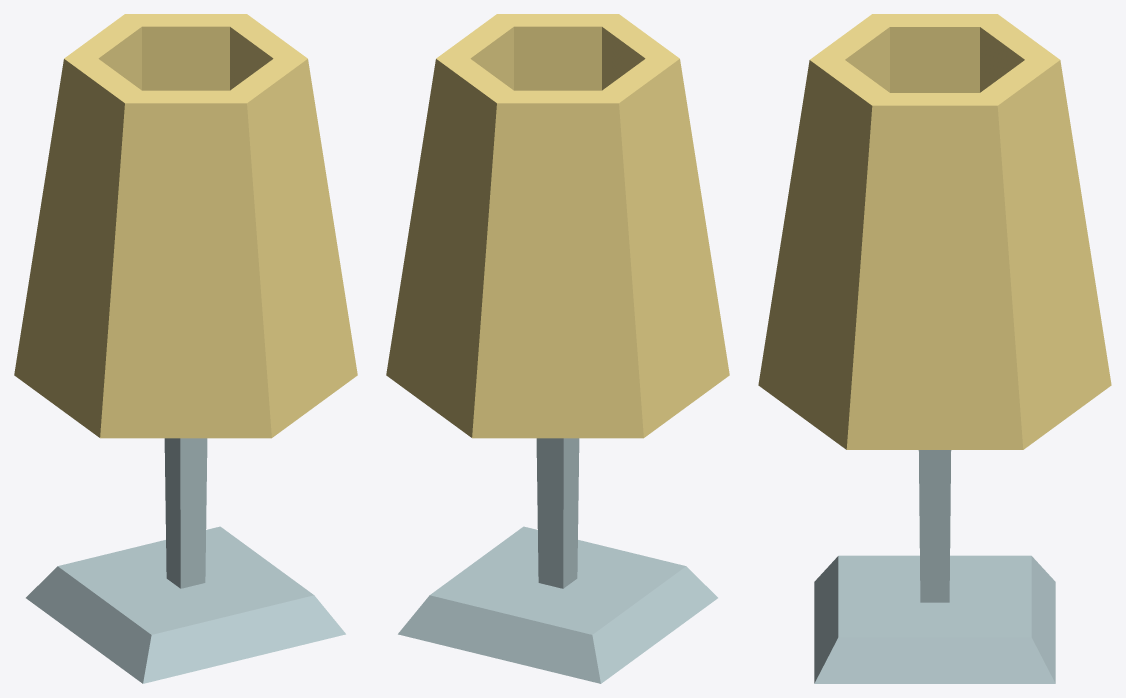
File: lampRoundTable.obj
The picture shows the model from 3 angles, left to right: view 1: azimuth 30°, elevation 25°; view 2: azimuth 150°, elevation 25°; view 3: azimuth 270°, elevation 25°; orthographic projection. The views are drawn at different scales.
Parts seen in each view (by area): view 1: lampRoundTable; view 2: lampRoundTable; view 3: lampRoundTable.
Boxes of the visible parts, box(x1,y1,x2,y2) form: lampRoundTable: box(14, 14, 357, 683); lampRoundTable: box(386, 14, 729, 683); lampRoundTable: box(758, 14, 1111, 683).
Size of the model in its own units: 0.152 by 0.3142 by 0.1756.
